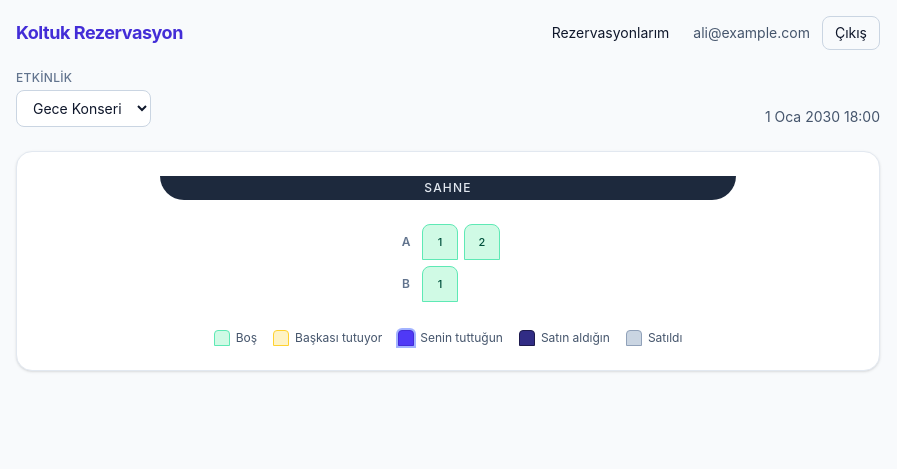
koltuk tutma ve onaylama akışı › oturum açıkken kullanıcının e-postası ve çıkış düğmesi görünür; çıkınca tutma paneli kapanır
The width and height of the screenshot is (897, 469).
Expected: the text "ali@example.com" is shown, [693,23,810,43]
Click the button "Çıkış": [851, 33] box [822,16,880,50]
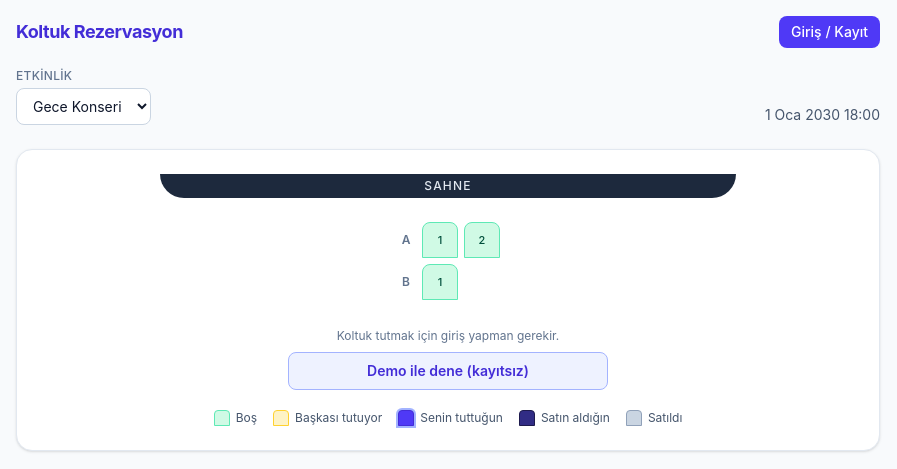
Expected: the button "Giriş / Kayıt" is shown, [779,16,880,48]
